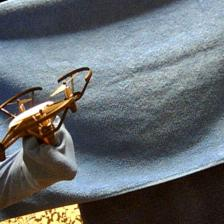drone: (0, 66, 96, 162)
